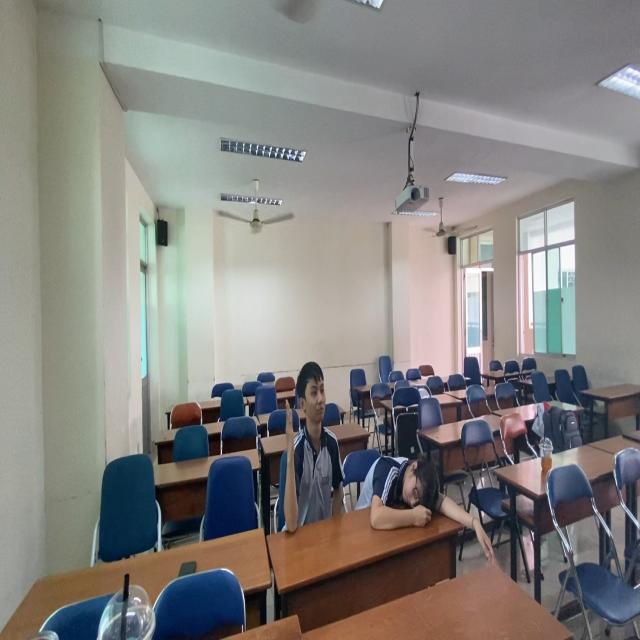raise_hand: (273, 357, 340, 534)
sleep: (357, 438, 462, 544)
